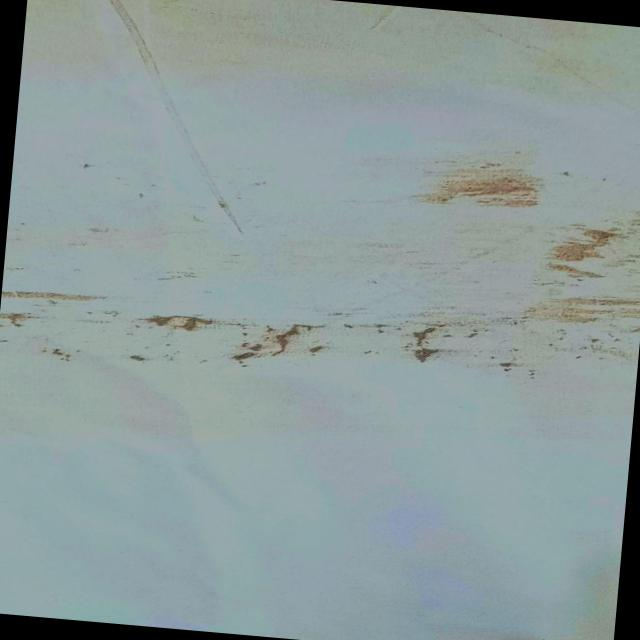stain: (0, 117, 640, 411)
